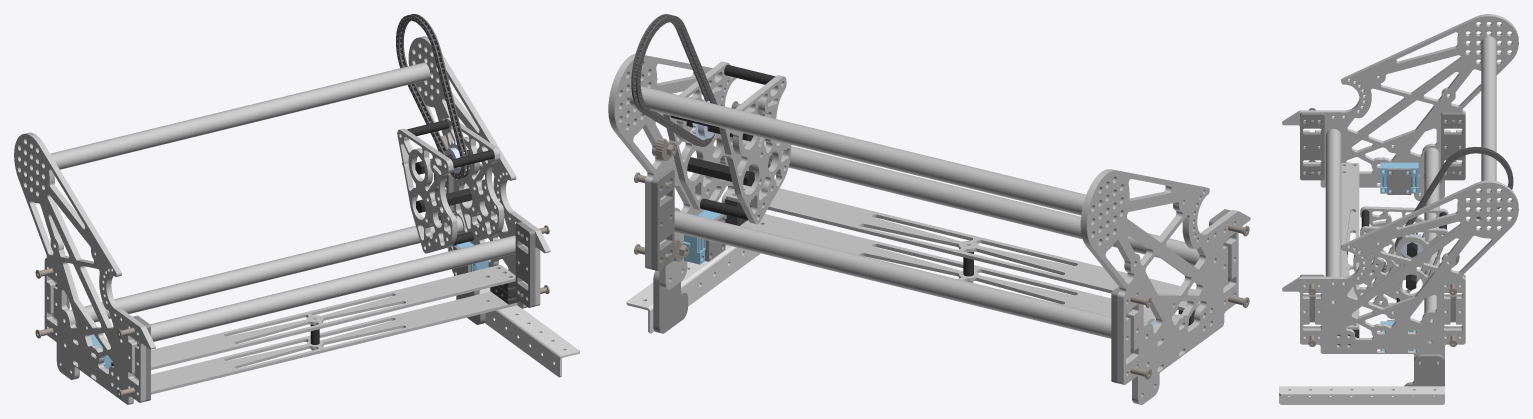
3 views of the same model, side by side, from view 1: azimuth 30°, elevation 25°; view 2: azimuth 150°, elevation 25°; view 3: azimuth 270°, elevation 25° (orthographic). The views are drawn at different scales.
Visible parts, largest first — view 1: carriage (×2), 18.75" Long Tube Stock (×3), CarriageBackPlateTapped, CarriageBackPlateClearance, Arm Gearbox Plate clearance, Arm Gearbox Plate tapped, VersaFrame Angle, 68 links #25 chain, 2930 bearing block; view 2: 18.75" Long Tube Stock (×3), carriage (×2), CarriageBackPlateTapped, CarriageBackPlateClearance, Arm Gearbox Plate clearance, Arm Gearbox Plate tapped, 2930 bearing block (×2), 68 links #25 chain, VersaFrame Angle, eChain Holder, Shaft, BottomClamp; view 3: carriage (×2), 18.75" Long Tube Stock (×3), 2930 bearing block (×4), VersaFrame Angle, Arm Gearbox Plate tapped, CarriageBackPlateTapped, Arm Gearbox Plate clearance, 68 links #25 chain, eChain Holder, BottomClamp, TopClamp.
Part boxes in pixels (left/top/right/bottom): carriage (×2): left=14, top=36, right=550, bottom=404; 18.75" Long Tube Stock (×3): left=50, top=62, right=515, bottom=341; CarriageBackPlateTapped: left=112, top=265, right=515, bottom=369; CarriageBackPlateClearance: left=151, top=291, right=517, bottom=394; Arm Gearbox Plate clearance: left=397, top=128, right=457, bottom=253; Arm Gearbox Plate tapped: left=444, top=117, right=504, bottom=241; VersaFrame Angle: left=479, top=287, right=579, bottom=377; 68 links #25 chain: left=396, top=14, right=469, bottom=179; 2930 bearing block: left=515, top=222, right=535, bottom=307; 18.75" Long Tube Stock (×3): left=629, top=86, right=1199, bottom=338; carriage (×2): left=608, top=54, right=1250, bottom=404; CarriageBackPlateTapped: left=726, top=184, right=1200, bottom=310; CarriageBackPlateClearance: left=740, top=214, right=1177, bottom=322; Arm Gearbox Plate clearance: left=719, top=75, right=791, bottom=224; Arm Gearbox Plate tapped: left=663, top=61, right=733, bottom=210; 2930 bearing block (×2): left=651, top=168, right=1132, bottom=383; 68 links #25 chain: left=631, top=14, right=717, bottom=146; VersaFrame Angle: left=626, top=245, right=760, bottom=333; eChain Holder: left=653, top=270, right=688, bottom=333; Shaft: left=687, top=157, right=754, bottom=186; BottomClamp: left=683, top=210, right=726, bottom=264; carriage (×2): left=1282, top=14, right=1518, bottom=362; 18.75" Long Tube Stock (×3): left=1325, top=36, right=1496, bottom=320; 2930 bearing block (×4): left=1300, top=112, right=1465, bottom=336; VersaFrame Angle: left=1279, top=386, right=1444, bottom=404; Arm Gearbox Plate tapped: left=1353, top=226, right=1447, bottom=312; CarriageBackPlateTapped: left=1341, top=163, right=1359, bottom=329; Arm Gearbox Plate clearance: left=1353, top=206, right=1448, bottom=299; 68 links #25 chain: left=1395, top=146, right=1513, bottom=258; eChain Holder: left=1404, top=354, right=1444, bottom=396; BottomClamp: left=1379, top=162, right=1419, bottom=193; TopClamp: left=1387, top=168, right=1411, bottom=194.
Size of the model in its own units: 0.5413 by 0.3317 by 0.2937.
